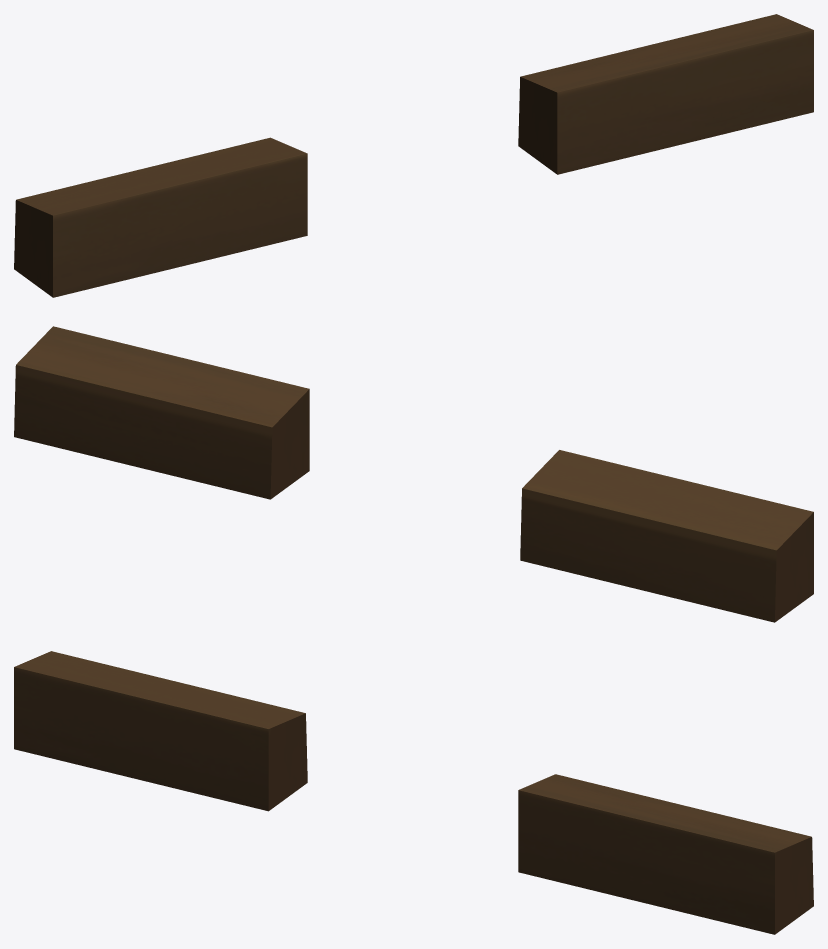
Rendered from floor02_wall3.FBX.
3 views of the same model, one above another, from view 1: azimuth 30°, elevation 25°; view 2: azimuth 150°, elevation 25°; view 3: azimuth 330°, elevation 25° (orthographic).
Parts seen in each view (by area): view 1: Object1585; view 2: Object1585; view 3: Object1585.
Part boxes in pixels (bbox=[...]): Object1585: bbox=[14, 14, 813, 297]; Object1585: bbox=[14, 326, 813, 622]; Object1585: bbox=[14, 651, 813, 934].
Bounding box in the file's own units: 2.01 × 0.2072 × 0.179.
